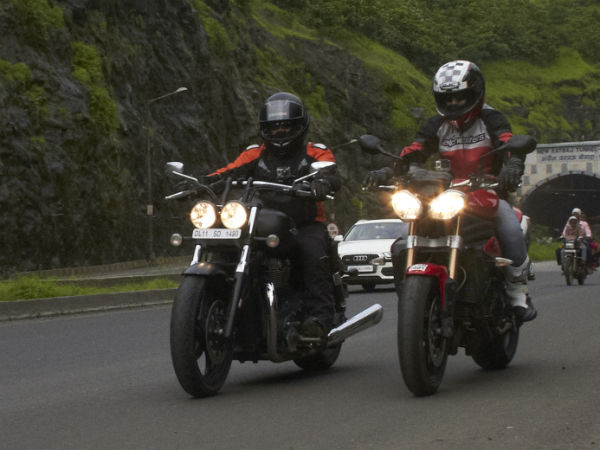helmet: (256, 92, 310, 150), (430, 59, 484, 117)
